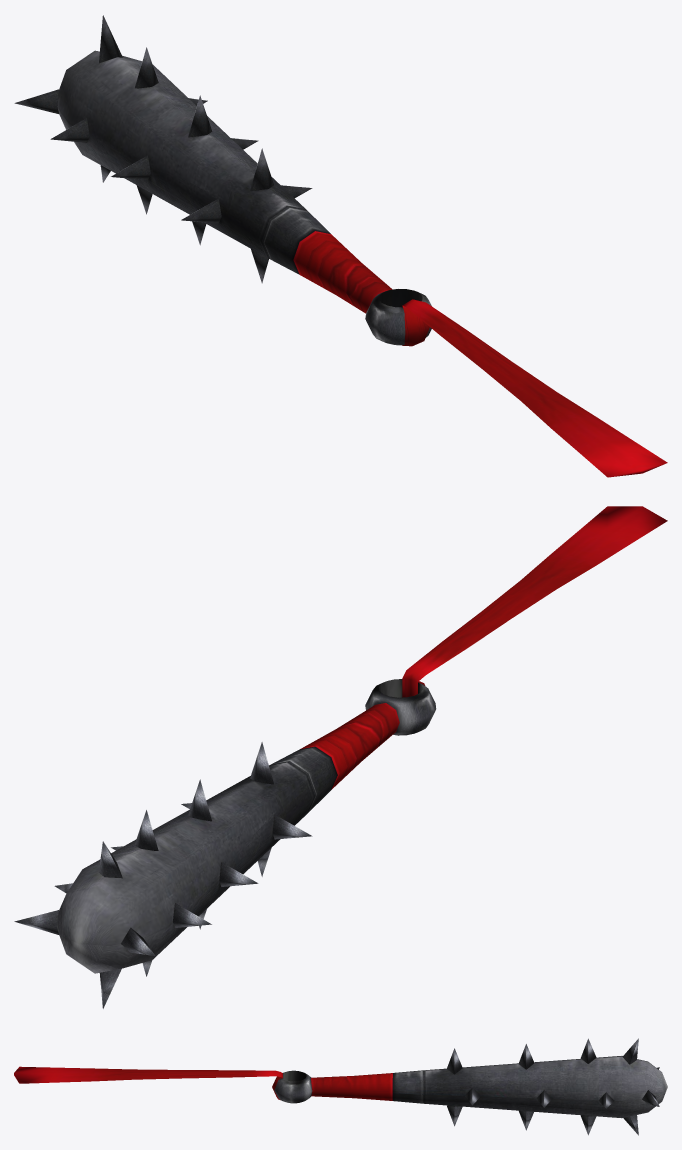
Rendered from change_amanojaku_kanabou_weapon.glb.
3 views of the same model, one above another, from view 1: azimuth 30°, elevation 25°; view 2: azimuth 150°, elevation 25°; view 3: azimuth 270°, elevation 25° (orthographic). The views are drawn at different scales.
Bounding box in the file's own units: 0.124 × 0.1267 × 0.7673.
Materials: 1 (1 with a texture image).
